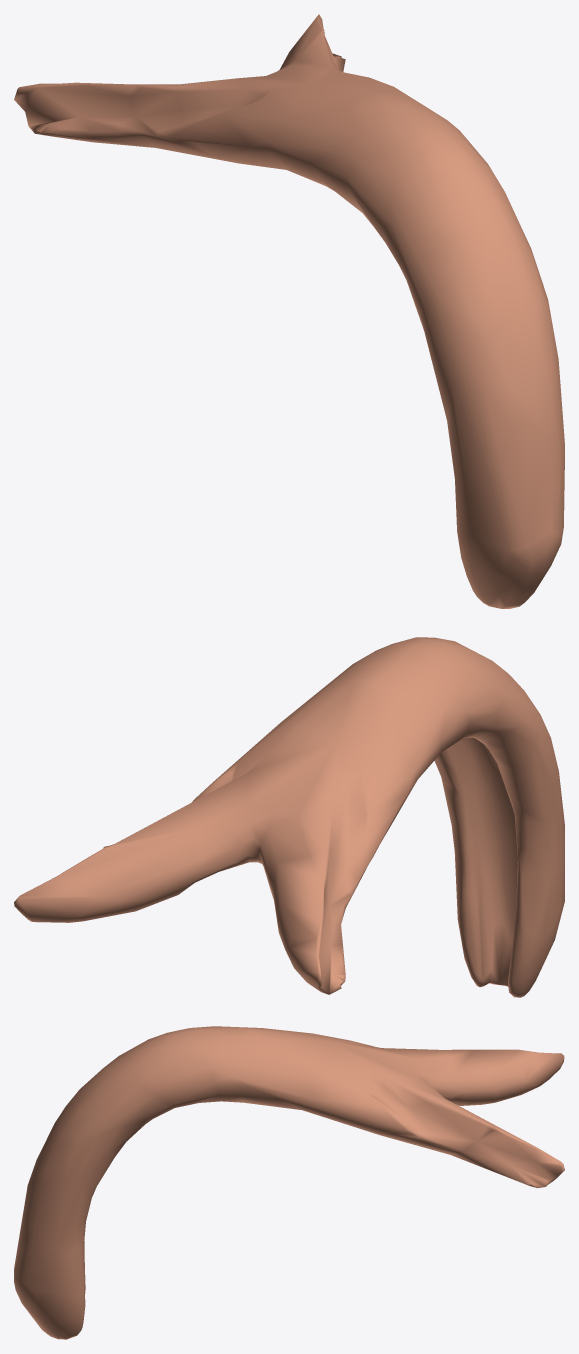
File: corpus-cavernosum-of-penis.glb
3 renders of one model, top to bottom at view 1: azimuth 30°, elevation 25°; view 2: azimuth 150°, elevation 25°; view 3: azimuth 270°, elevation 25°, orthographic. The views are drawn at different scales.
Parts seen in each view (by area): view 1: Corpus cavernosum of penis; view 2: Corpus cavernosum of penis; view 3: Corpus cavernosum of penis.
Boxes of the visible parts, bbox=[...] form: Corpus cavernosum of penis: bbox=[14, 14, 564, 608]; Corpus cavernosum of penis: bbox=[14, 637, 564, 997]; Corpus cavernosum of penis: bbox=[14, 1026, 564, 1339].
Bounding box in the file's own units: 0.0653 × 0.0831 × 0.1355.
